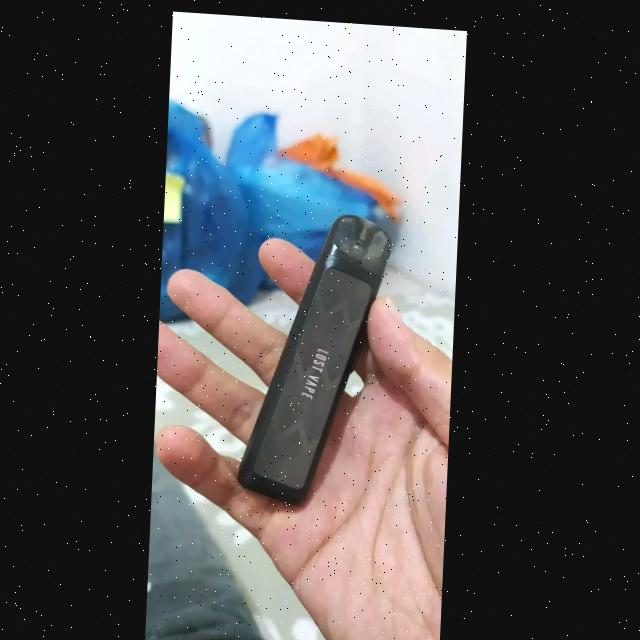vape: (243, 201, 396, 502)
